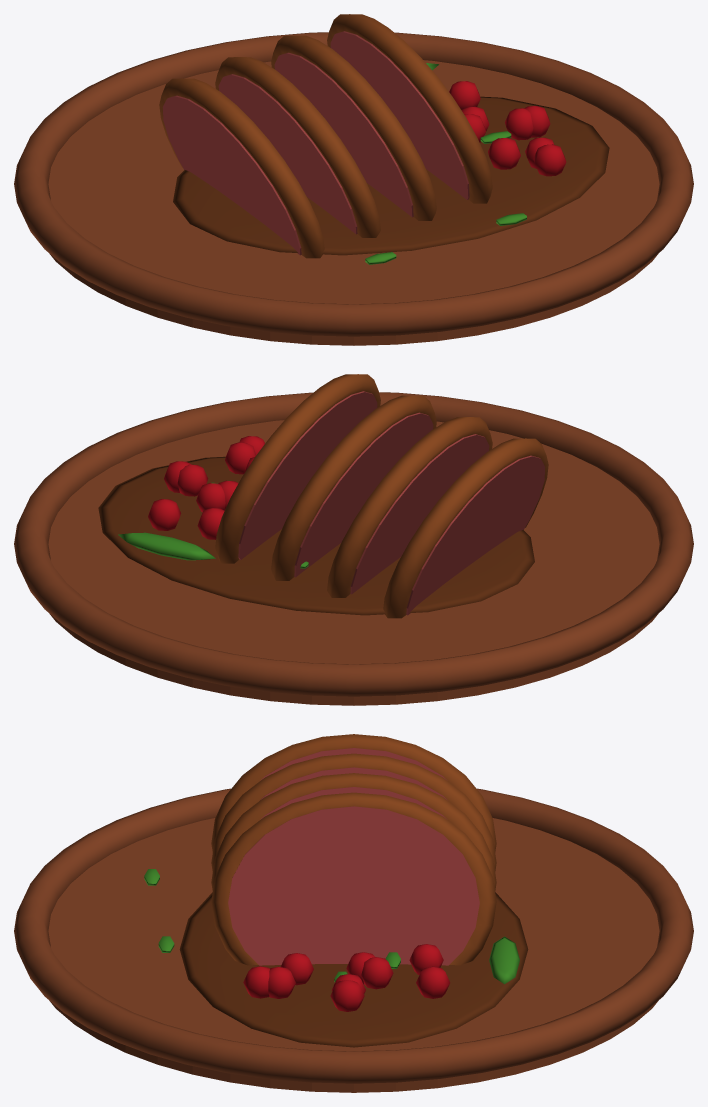
File: wildbretbraten.glb
3 renders of one model, top to bottom at view 1: azimuth 30°, elevation 25°; view 2: azimuth 150°, elevation 25°; view 3: azimuth 270°, elevation 25°, orthographic.
Visible parts, largest first — view 1: Cylinder, Torus, Sphere, Cylinder.001, Cylinder.004, Cylinder.003, Cylinder.002, Torus.004, Torus.003, Torus.001, Torus.002, Sphere.005 (+4 smaller); view 2: Cylinder, Torus, Sphere, Cylinder.001, Cylinder.004, Cylinder.003, Cylinder.002, Torus.004, Torus.003, Torus.001, Torus.002, Sphere.010 (+5 smaller); view 3: Cylinder, Torus, Cylinder.004, Sphere, Torus.004, Torus.001, Torus.003, Torus.002, Sphere.010, Cylinder.001, Cylinder.002, Cylinder.003 (+7 smaller).
Boxes of the visible parts, bbox=[...] form: Cylinder: bbox=[48, 60, 659, 345]; Torus: bbox=[14, 32, 693, 336]; Sphere: bbox=[173, 96, 609, 255]; Cylinder.001: bbox=[163, 95, 301, 255]; Cylinder.004: bbox=[330, 31, 469, 199]; Cylinder.003: bbox=[274, 52, 413, 217]; Cylinder.002: bbox=[218, 74, 357, 234]; Torus.004: bbox=[327, 14, 492, 203]; Torus.003: bbox=[271, 35, 436, 220]; Torus.001: bbox=[159, 78, 324, 258]; Torus.002: bbox=[215, 57, 380, 237]; Sphere.005: bbox=[488, 138, 520, 169]; Cylinder: bbox=[48, 420, 659, 705]; Torus: bbox=[14, 392, 693, 696]; Sphere: bbox=[98, 456, 534, 615]; Cylinder.001: bbox=[406, 455, 544, 615]; Cylinder.004: bbox=[238, 391, 377, 559]; Cylinder.003: bbox=[294, 412, 433, 577]; Cylinder.002: bbox=[350, 434, 489, 594]; Torus.004: bbox=[215, 374, 380, 563]; Torus.003: bbox=[271, 395, 436, 580]; Torus.001: bbox=[383, 438, 548, 618]; Torus.002: bbox=[327, 417, 492, 597]; Sphere.010: bbox=[118, 532, 215, 560]; Cylinder: bbox=[48, 818, 659, 1092]; Torus: bbox=[14, 788, 693, 1083]; Cylinder.004: bbox=[228, 806, 479, 965]; Sphere: bbox=[179, 892, 528, 1047]; Torus.004: bbox=[211, 792, 496, 965]; Torus.001: bbox=[211, 734, 496, 852]; Torus.003: bbox=[211, 773, 496, 891]; Torus.002: bbox=[211, 753, 496, 871]; Sphere.010: bbox=[489, 936, 519, 984]; Cylinder.001: bbox=[260, 748, 447, 780]; Cylinder.002: bbox=[260, 767, 447, 800]; Cylinder.003: bbox=[260, 787, 447, 819].
Size of the model in its own units: 0.316 by 0.1078 by 0.316.
